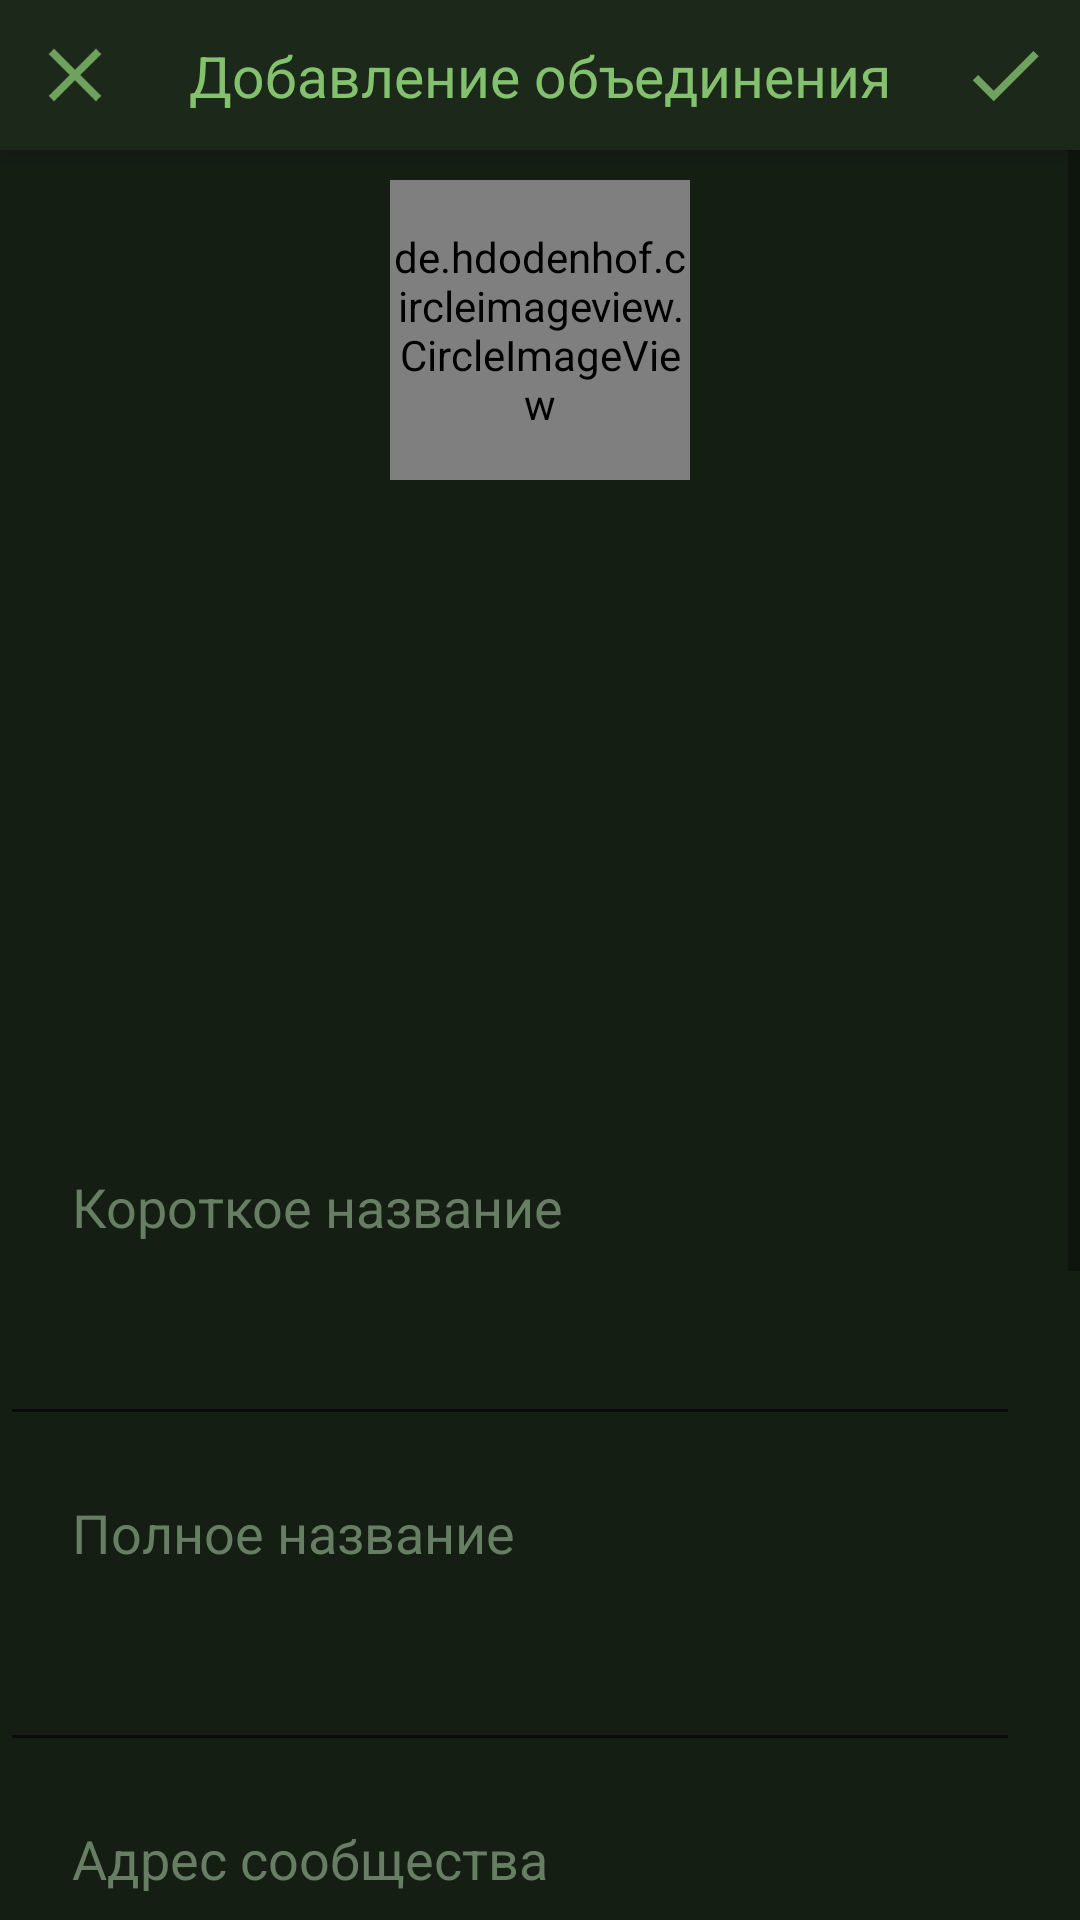

Icons on this 1080 x 1920 Android screen, each with the point to tap as (x=x, y=y):
check: (x=1006, y=76)
close: (x=75, y=75)
